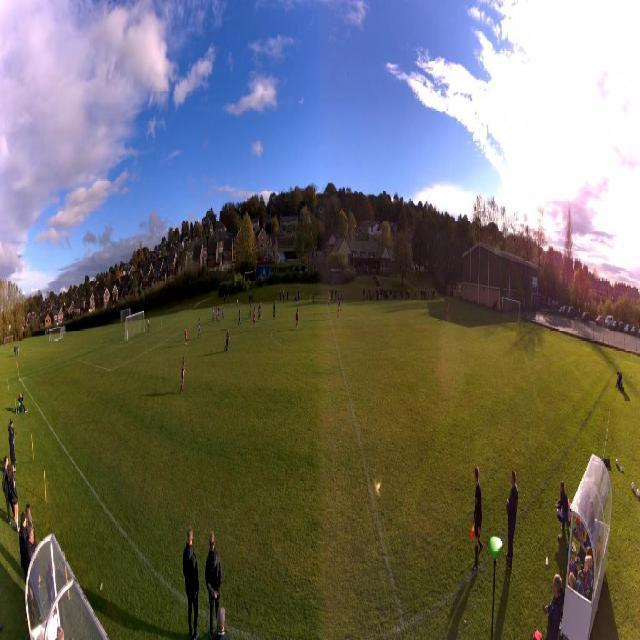ball: (260, 317, 262, 321)
player: (180, 356, 187, 394), (224, 330, 230, 352), (252, 311, 256, 332), (295, 309, 299, 329), (237, 310, 241, 328), (337, 296, 341, 314), (184, 328, 188, 345), (327, 291, 331, 307), (198, 319, 201, 339), (248, 303, 252, 318), (273, 301, 276, 320), (253, 304, 257, 318), (258, 304, 261, 320), (337, 303, 340, 319), (148, 316, 150, 334), (260, 302, 262, 319), (447, 301, 449, 318), (218, 308, 220, 324), (216, 307, 218, 323), (223, 306, 225, 321), (212, 306, 214, 321), (218, 307, 220, 318)
